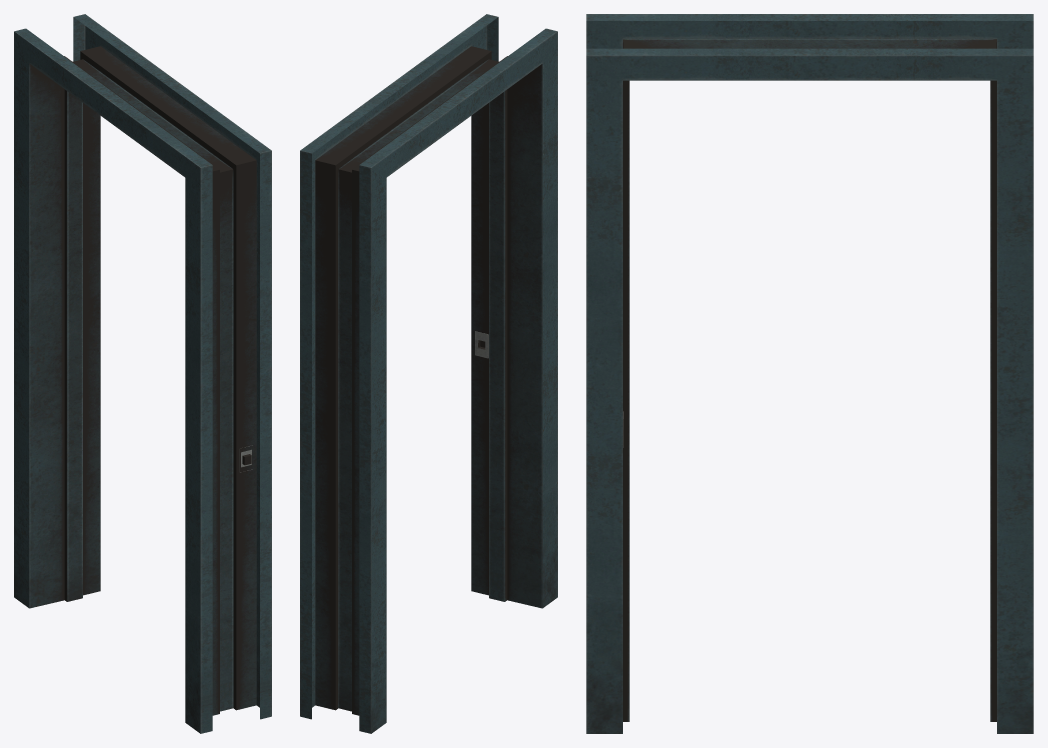
Rendered from repairdoorframe_reference.001.fbx.
The picture shows the model from 3 angles, left to right: view 1: azimuth 30°, elevation 25°; view 2: azimuth 150°, elevation 25°; view 3: azimuth 270°, elevation 25°; orthographic projection. The views are drawn at different scales.
Visible parts, largest first — view 1: repairdoorframe_reference.001; view 2: repairdoorframe_reference.001; view 3: repairdoorframe_reference.001.
Boxes of the visible parts, <box> form: repairdoorframe_reference.001: <box>14,14,271,733</box>; repairdoorframe_reference.001: <box>300,14,557,733</box>; repairdoorframe_reference.001: <box>586,14,1033,733</box>.
Size of the model in its own units: 30.26 by 230 by 137.
